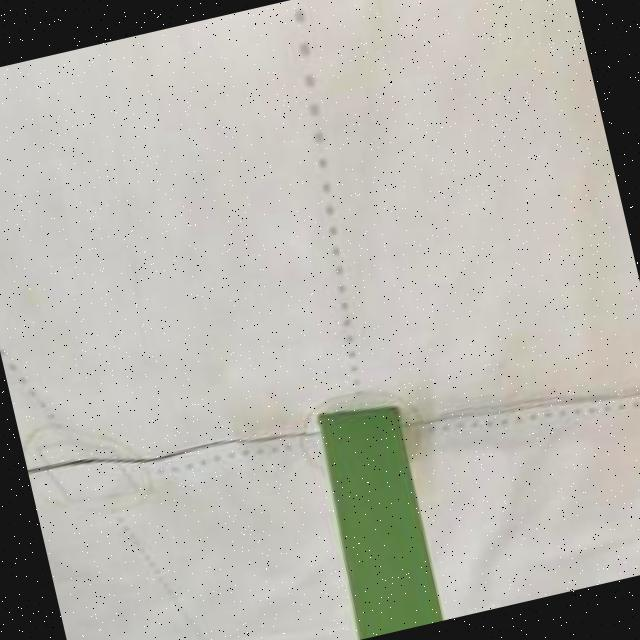greenbox: (298, 393, 453, 640)
